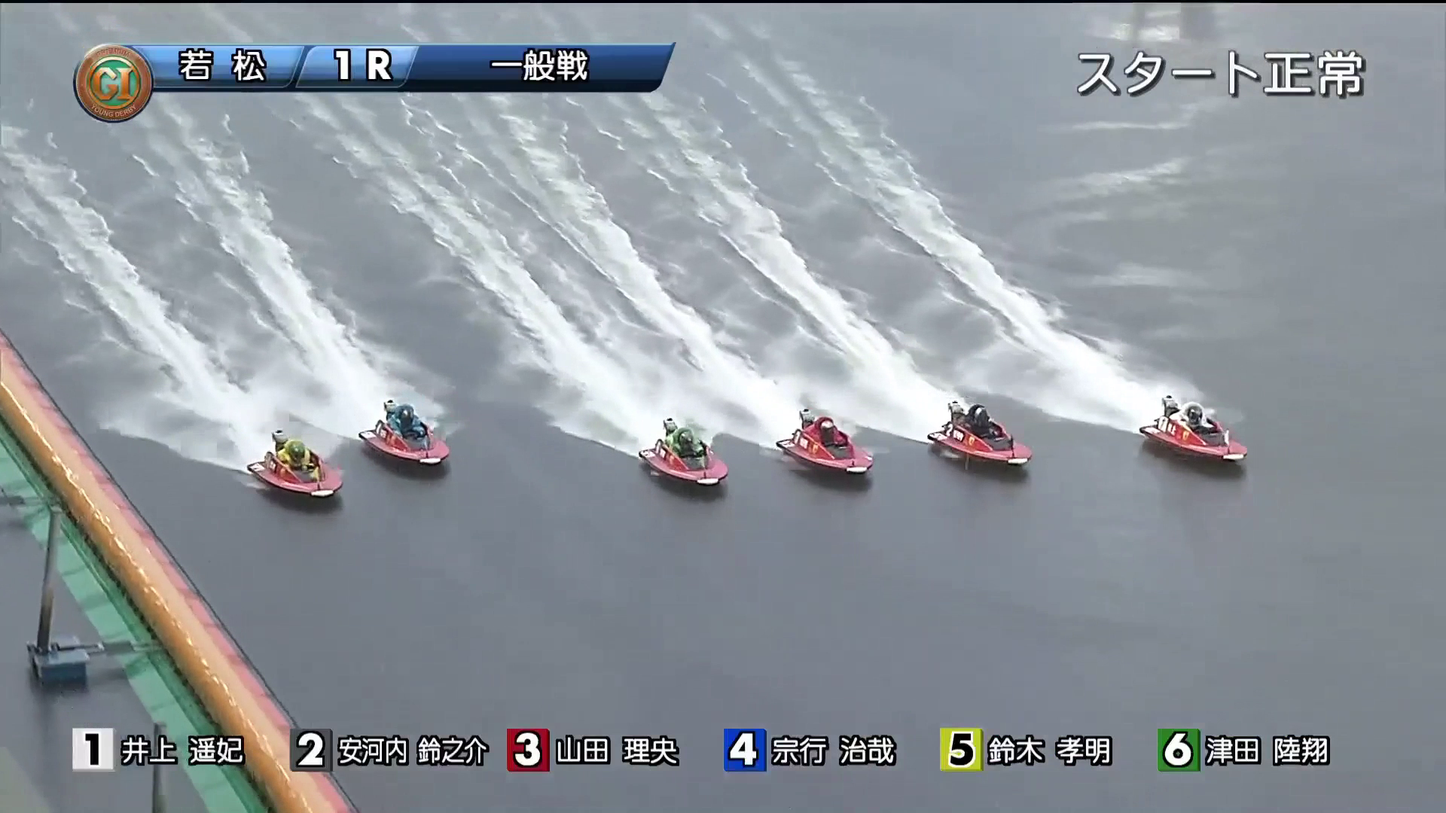１号艇: (1153, 387, 1251, 431)
２号艇: (940, 397, 1040, 440)
３号艇: (780, 425, 883, 467)
４号艇: (631, 425, 739, 474)
５号艇: (346, 398, 467, 453)
６号艇: (263, 447, 363, 503)
